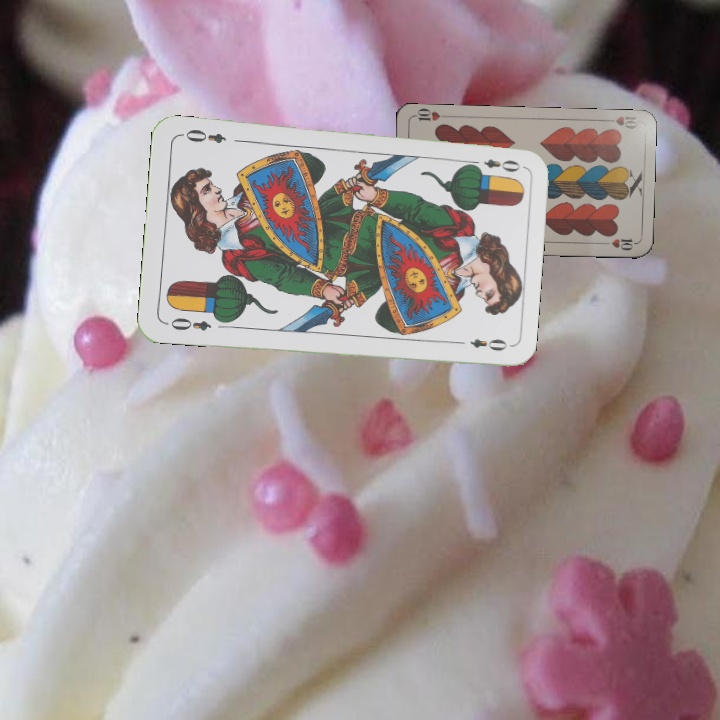EO: (465, 154, 523, 175), (162, 314, 214, 334)
H10: (600, 112, 639, 132)
